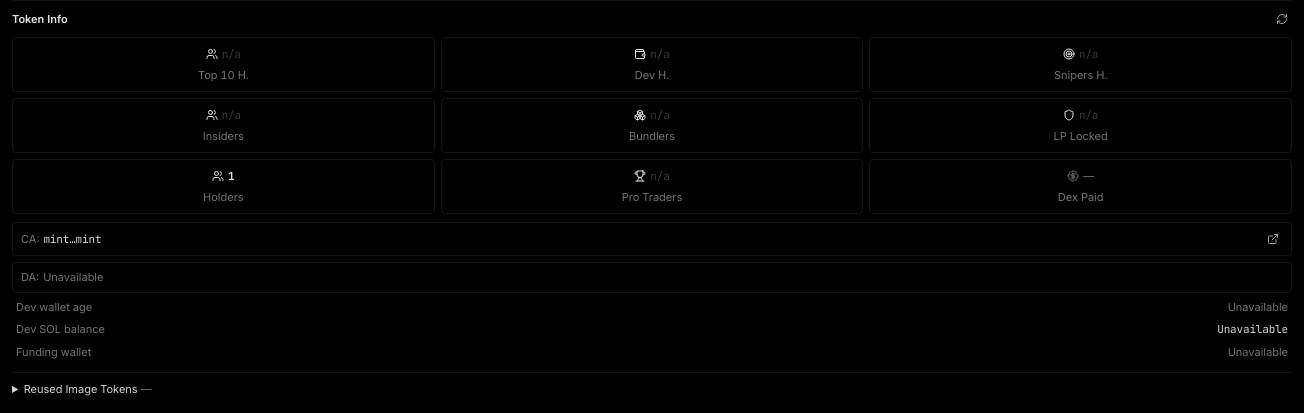
Test case: trade sidebar evidence labels › credits the holder count to the DEX route when the ownership audit is unavailable
The image size is (1304, 413).
Focus the element labelled "Holders" at (223, 186), box top-left (12, 159), bottom-right (435, 214)
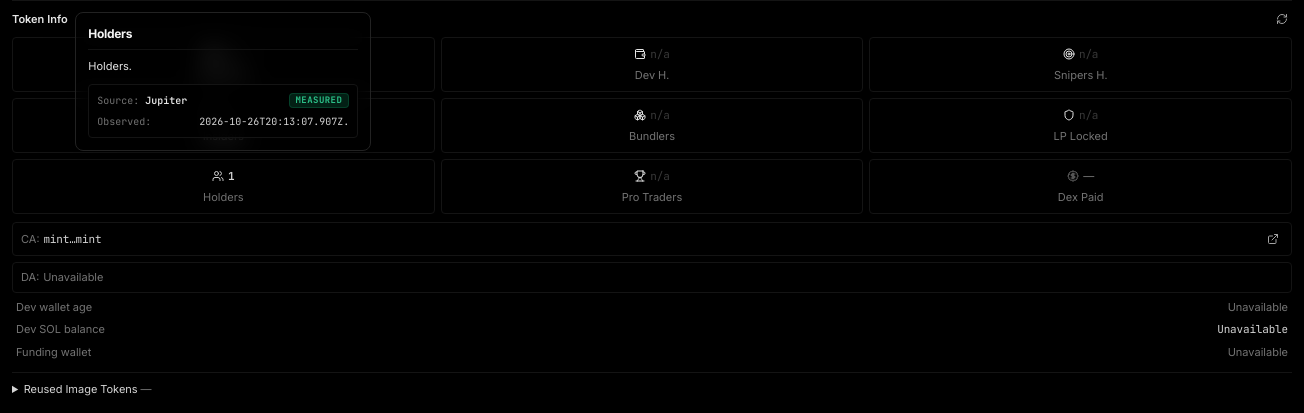
Result: the tooltip shows "Jupiter" at top-left (145, 94), bottom-right (187, 107)
